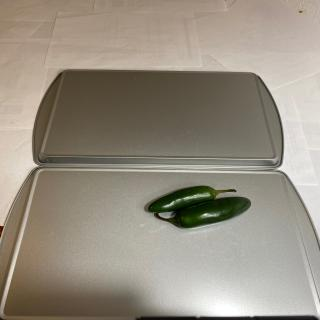Tomato: (154, 197, 252, 230), (147, 186, 237, 213)
